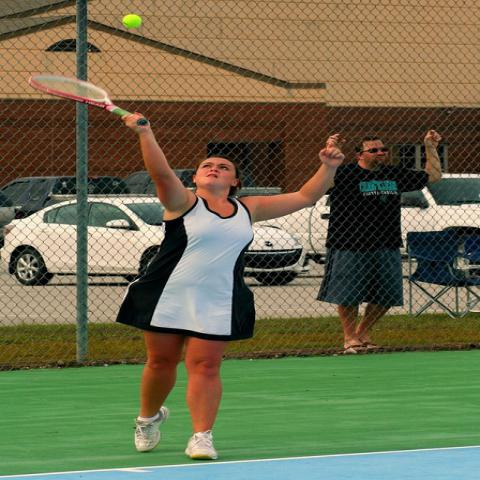car: (0, 196, 315, 286), (396, 173, 478, 253), (4, 174, 156, 211), (116, 169, 198, 194), (231, 188, 283, 198)
